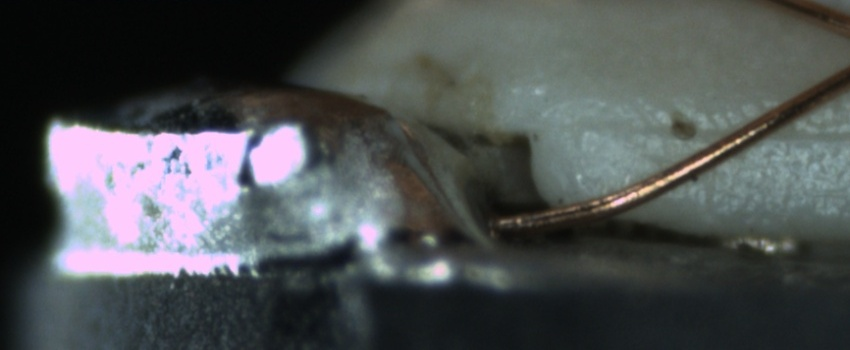DL: (584, 100, 850, 159)
